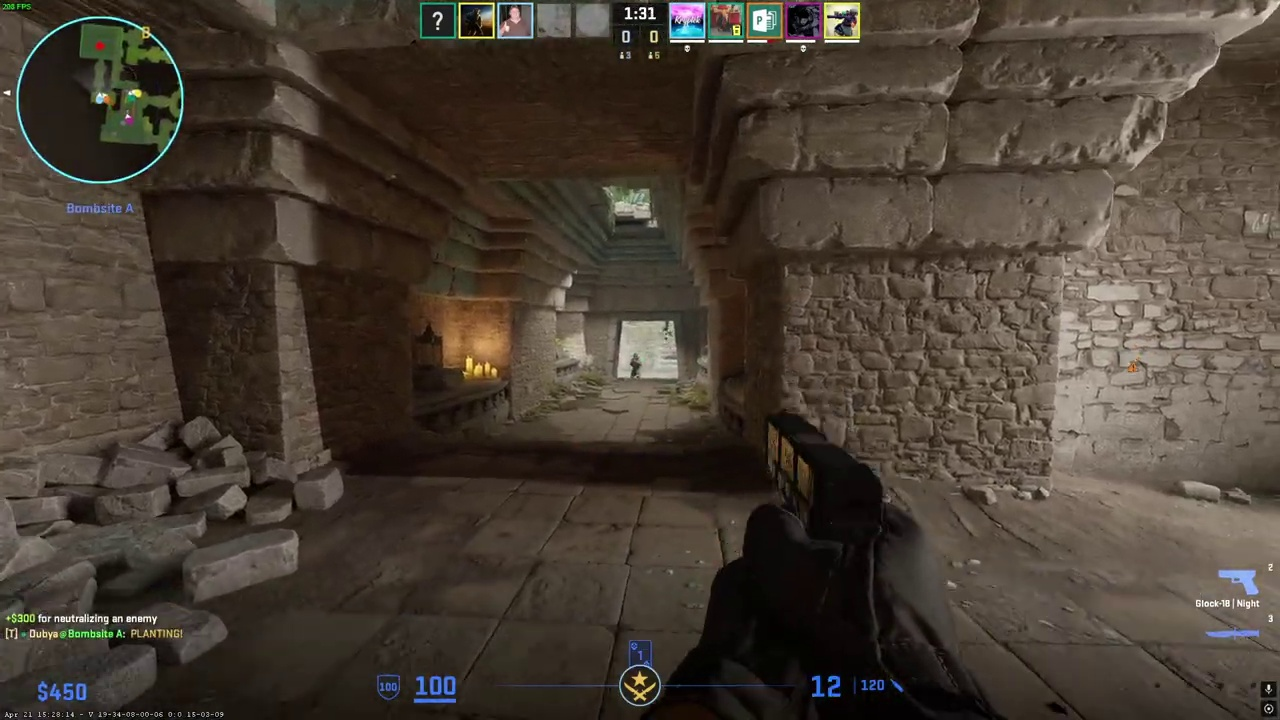CT: (630, 353, 642, 379)
